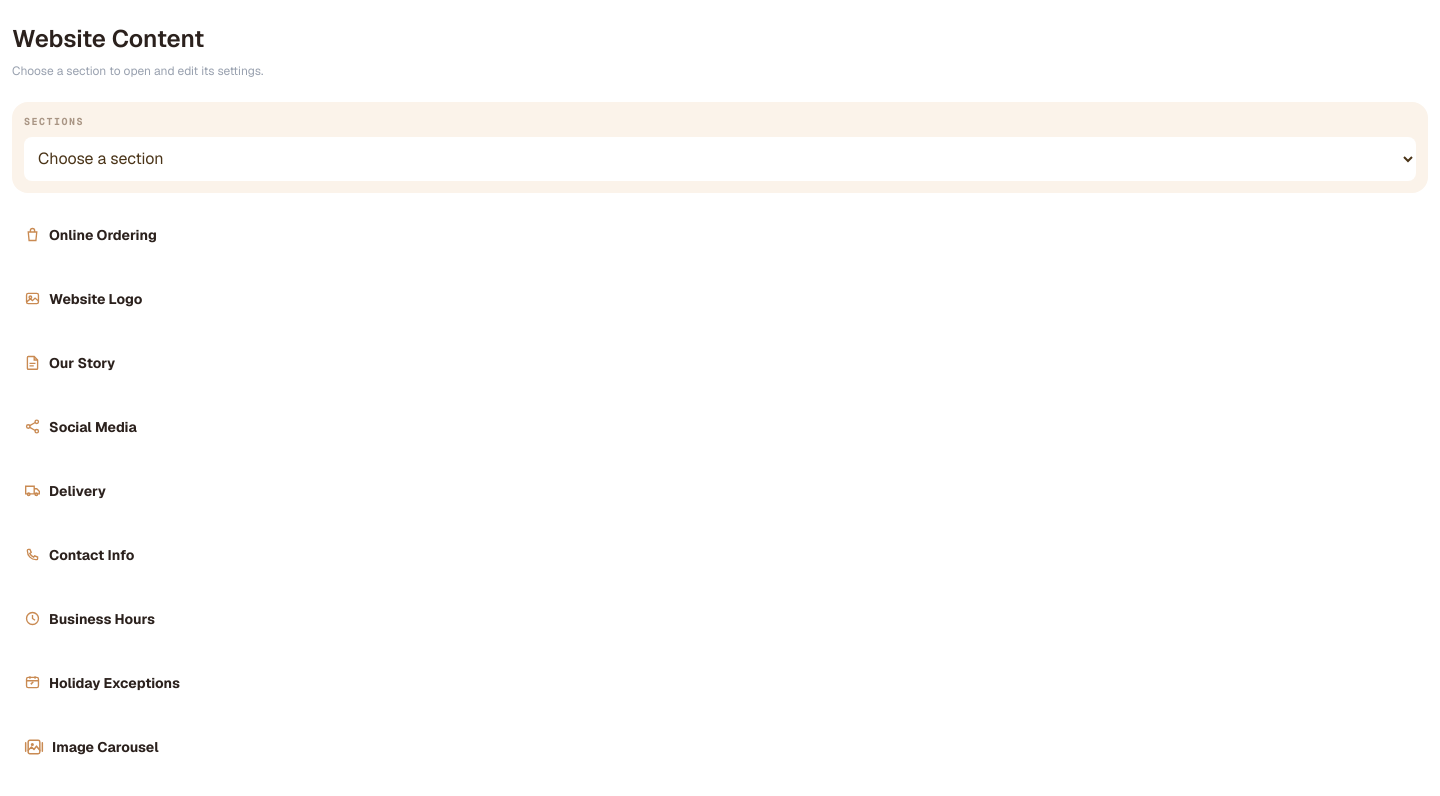
confirmed website content deletion › displays distinct status badges: unsaved edits and all changes saved to storage
Select "Our Story" in the dropdown labelled "Sections" at point(720, 158), box [24,136,1416,180]
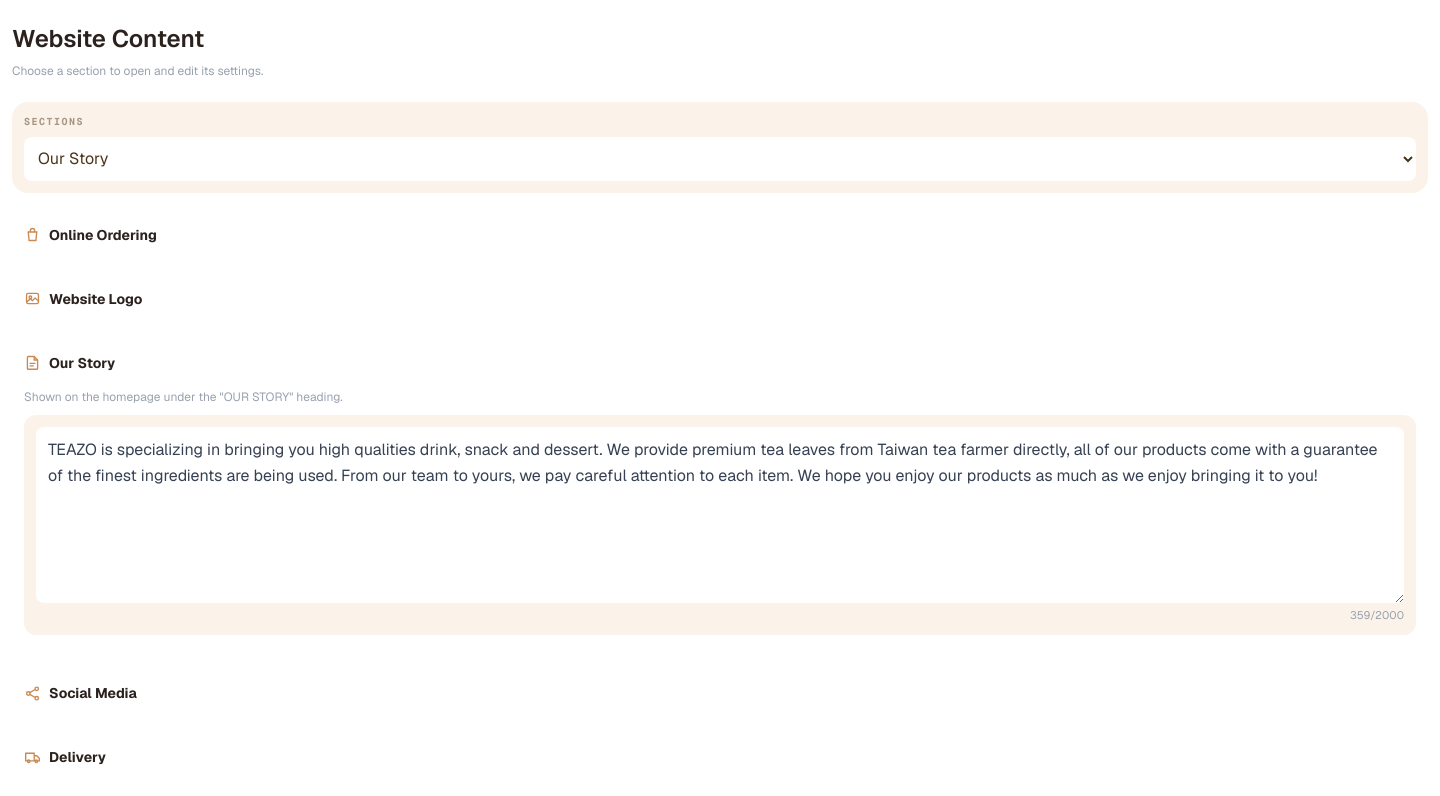
# Typing triggers unsaved status badge
Replace the text in the text box named "Our Story" with "Updated story content" at point(720, 514), box [36,426,1404,602]
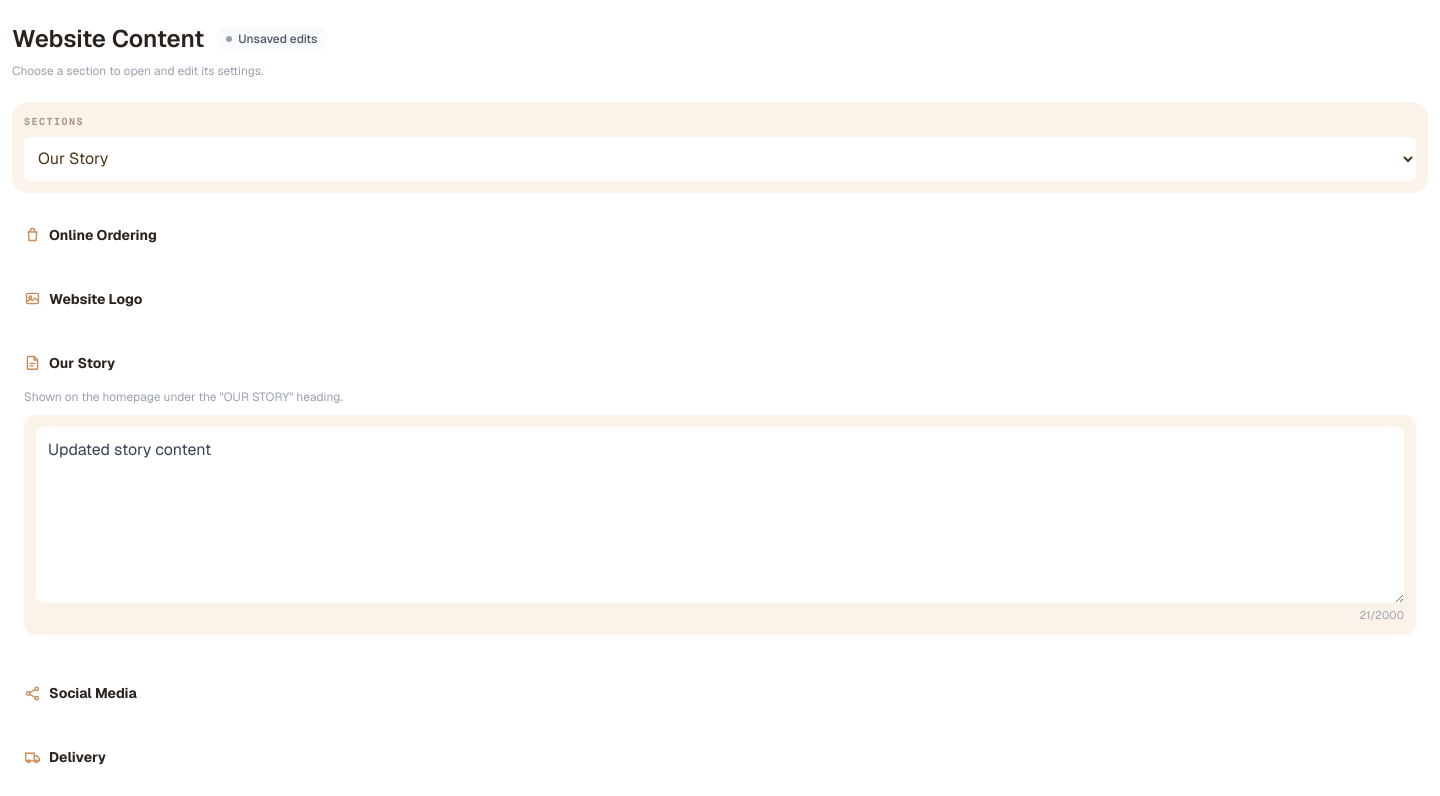
Expected: the text "Unsaved edits" is shown, [216,27,328,51]
# Blur triggers flushPatch and confirmation
Leave the text box named "Our Story", box [36,426,1404,602]
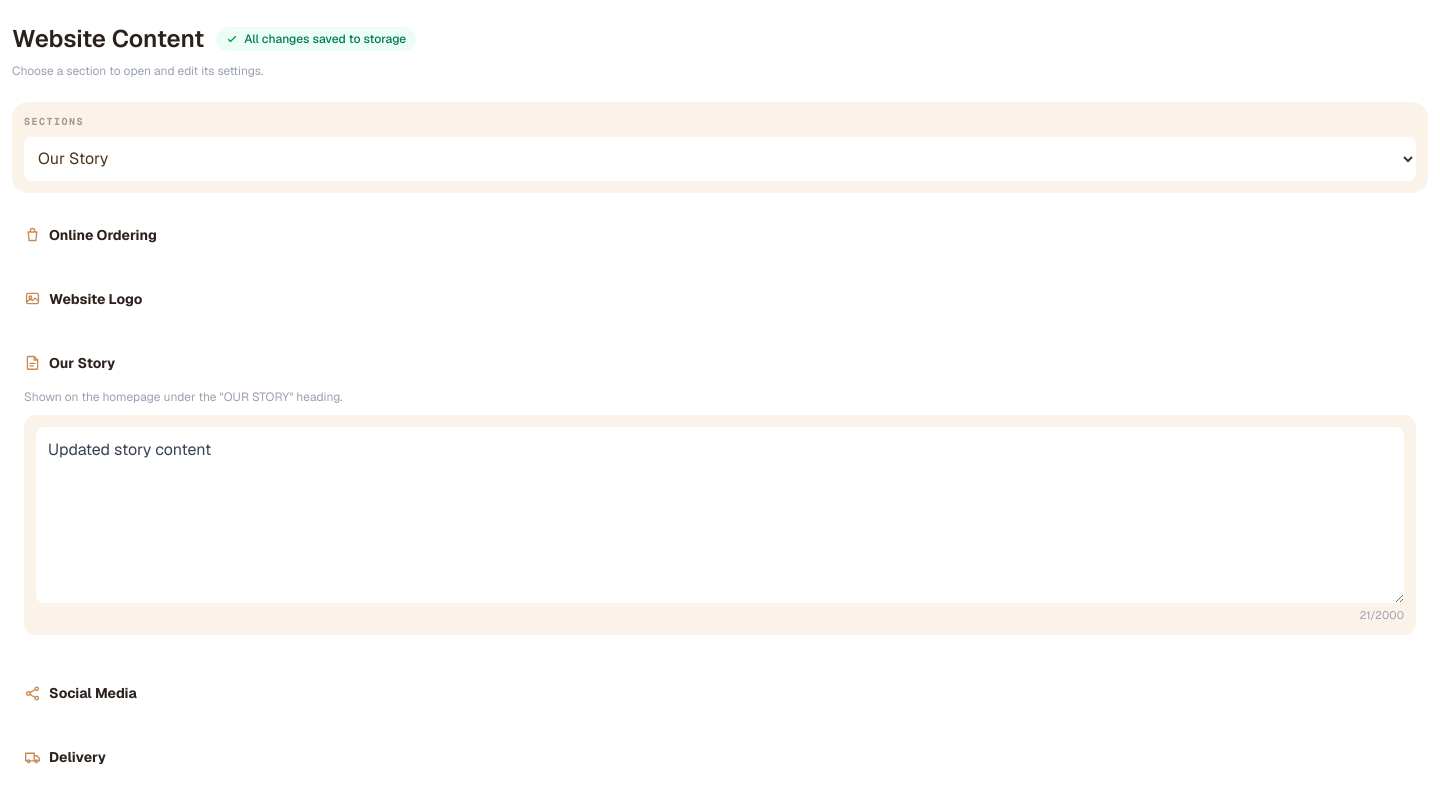
Expected: the text "All changes saved to storage" is shown, [216,27,416,51]
